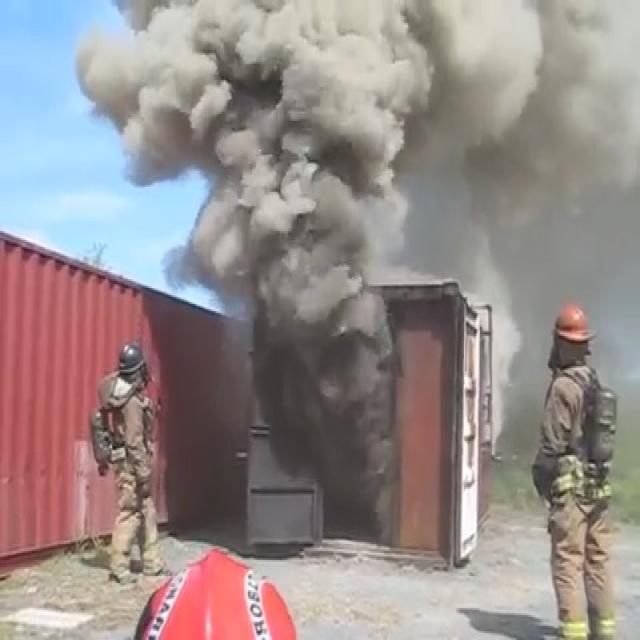Smoke: (246, 26, 429, 470)
